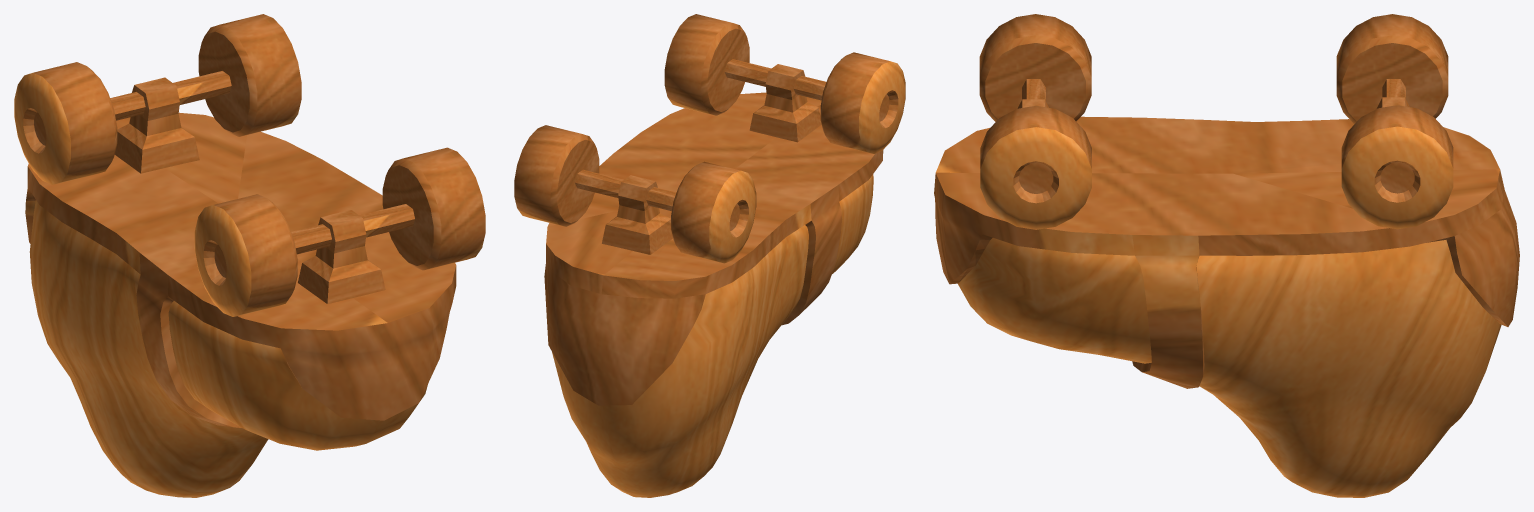
File: Wood_Roller_R.FBX
The picture shows the model from 3 angles, left to right: view 1: azimuth 30°, elevation 25°; view 2: azimuth 150°, elevation 25°; view 3: azimuth 270°, elevation 25°; orthographic projection. The views are drawn at different scales.
Visible parts, largest first — view 1: foot_L04; view 2: foot_L04; view 3: foot_L04.
Boxes of the visible parts, box(x1,y1,x2,y2) form: foot_L04: box(14, 14, 485, 497); foot_L04: box(514, 14, 905, 497); foot_L04: box(934, 14, 1519, 497).
Size of the model in its own units: 12.84 by 20.4 by 25.74.
Materials: 1 (1 with a texture image).
